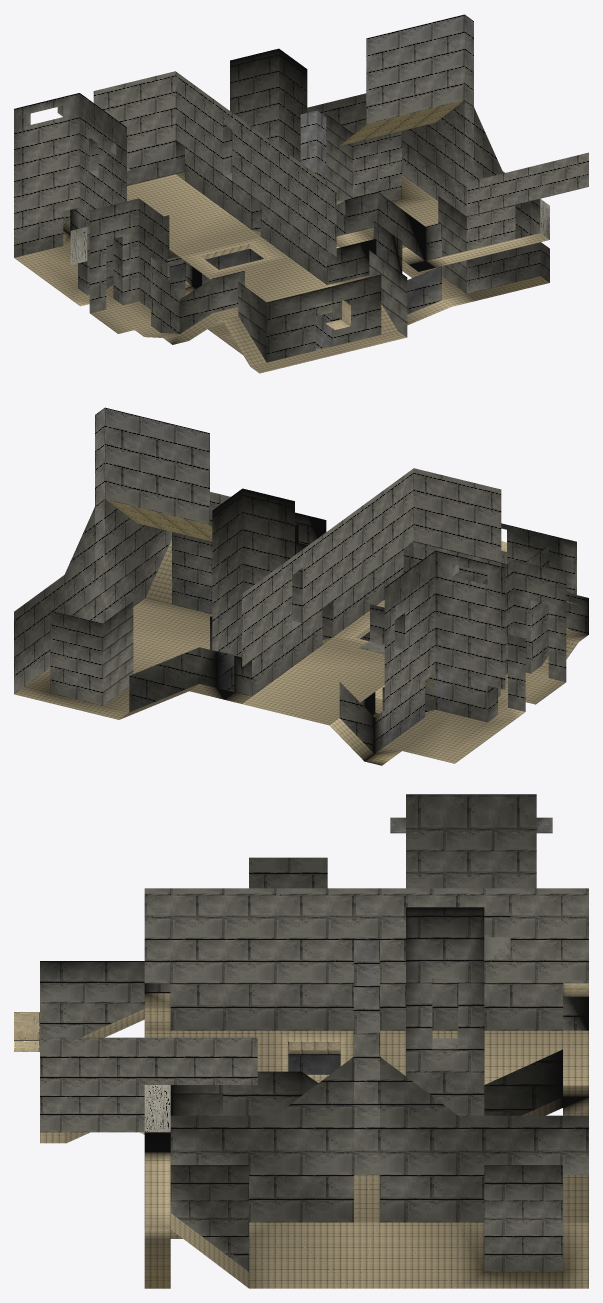
The model's file is Temple.glb.
The picture shows the model from 3 angles, top to bottom: view 1: azimuth 30°, elevation 25°; view 2: azimuth 150°, elevation 25°; view 3: azimuth 270°, elevation 25°; orthographic projection. The views are drawn at different scales.
Parts seen in each view (by area): view 1: TempleGE_0, TempleGE_1, TempleGE_2, TempleGE_3; view 2: TempleGE_0, TempleGE_1, TempleGE_2; view 3: TempleGE_0, TempleGE_1, TempleGE_2, TempleGE_3.
Boxes of the visible parts, bbox=[...] form: TempleGE_0: bbox=[14, 14, 588, 362]; TempleGE_1: bbox=[14, 172, 549, 373]; TempleGE_2: bbox=[325, 100, 463, 329]; TempleGE_3: bbox=[70, 199, 549, 264]; TempleGE_0: bbox=[14, 407, 588, 753]; TempleGE_1: bbox=[14, 539, 588, 765]; TempleGE_2: bbox=[105, 499, 576, 604]; TempleGE_0: bbox=[40, 794, 588, 1271]; TempleGE_1: bbox=[40, 993, 588, 1288]; TempleGE_2: bbox=[14, 983, 588, 1051]; TempleGE_3: bbox=[144, 1085, 170, 1132].
Size of the model in its own units: 496 by 230 by 404.
Materials: 4 (4 with a texture image).
